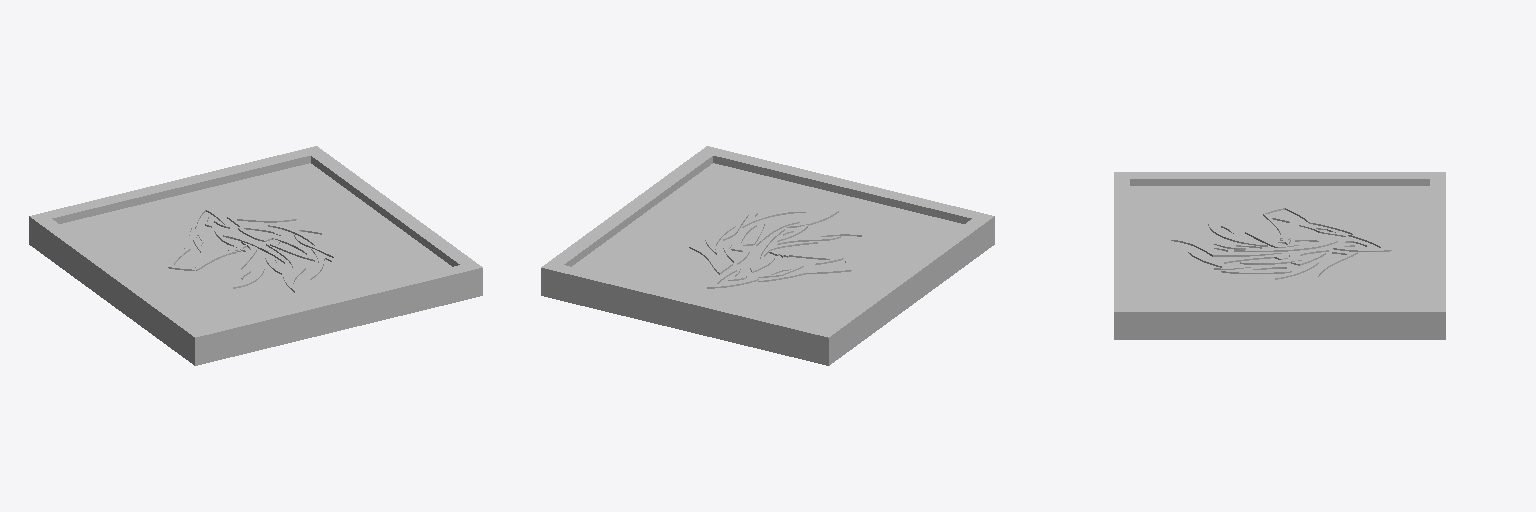
The model's file is WolfPlatform.obj.
The picture shows the model from 3 angles: view 1: azimuth 30°, elevation 25°; view 2: azimuth 150°, elevation 25°; view 3: azimuth 270°, elevation 25°; orthographic projection.
Parts seen in each view (by area): view 1: BezierCurve.000_CUBezierCurve.000, BezierCurve_CUBezierCurve.001; view 2: BezierCurve.000_CUBezierCurve.000, BezierCurve_CUBezierCurve.001; view 3: BezierCurve.000_CUBezierCurve.000, BezierCurve_CUBezierCurve.001.
Part boxes in pixels (x1,y1,x2,y2): BezierCurve.000_CUBezierCurve.000: (29,146,482,365); BezierCurve_CUBezierCurve.001: (168,205,333,292); BezierCurve.000_CUBezierCurve.000: (541,146,994,365); BezierCurve_CUBezierCurve.001: (689,211,861,288); BezierCurve.000_CUBezierCurve.000: (1114,172,1445,339); BezierCurve_CUBezierCurve.001: (1171,205,1391,279).
Bounding box in the file's own units: 2 × 0.1882 × 2.